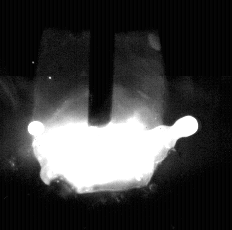arame: (88, 0, 114, 128)
poca: (31, 0, 177, 230)
